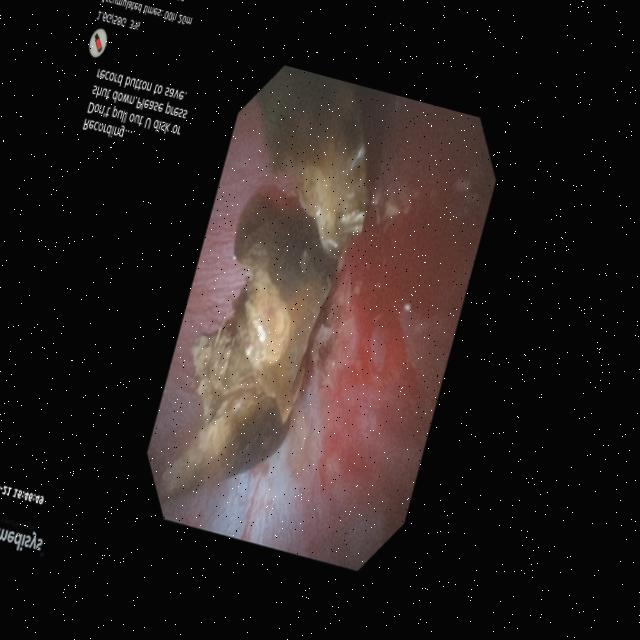stone-new: (161, 196, 337, 500), (259, 66, 368, 257)
